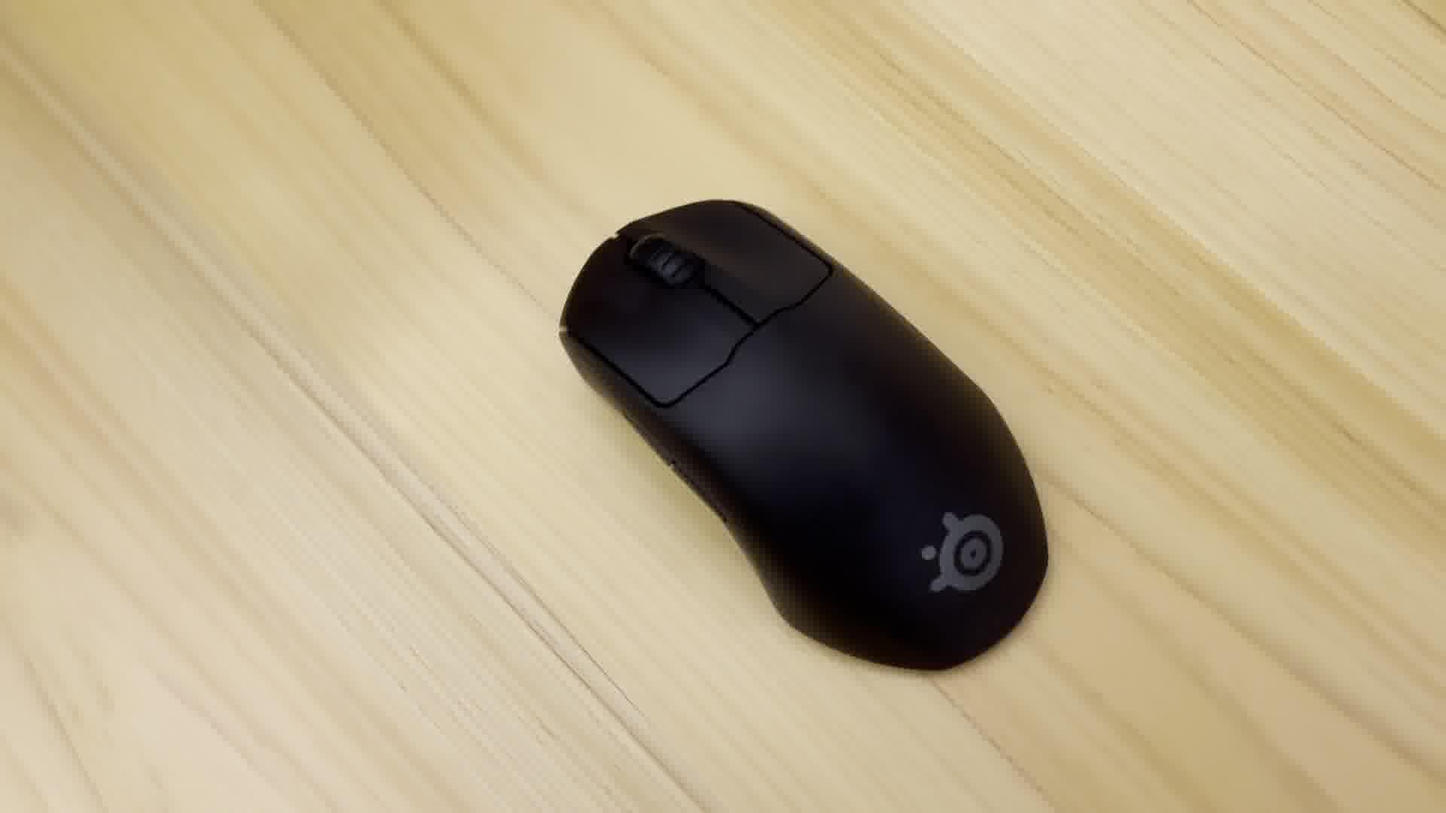steel-series: (555, 188, 1057, 680)
